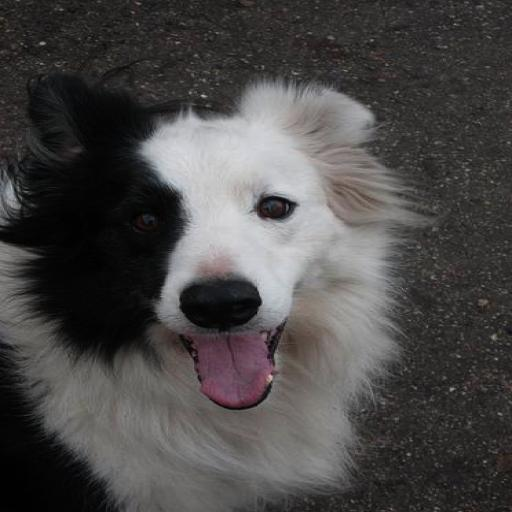dog_face: (25, 69, 377, 413)
